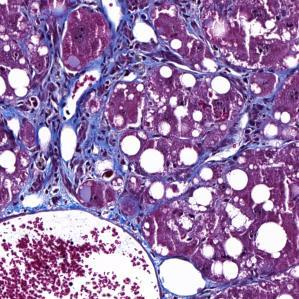fibrosis: (99, 9, 202, 69), (25, 65, 114, 130), (30, 155, 132, 211)
